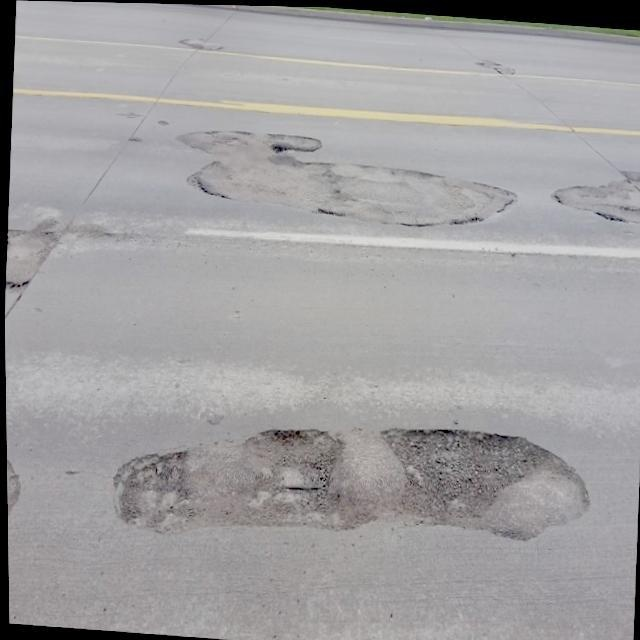pothole: (382, 426, 591, 535), (114, 453, 190, 529), (257, 429, 340, 495), (555, 184, 639, 221)
